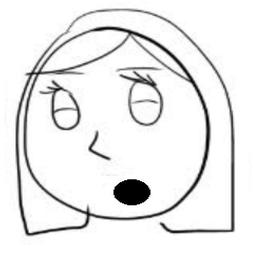eye: (117, 72, 167, 132), (37, 82, 88, 133)
eyebrow: (111, 62, 163, 72), (53, 70, 85, 78)
open_mouth: (103, 169, 155, 208)
pointy_nose: (82, 127, 115, 162)
